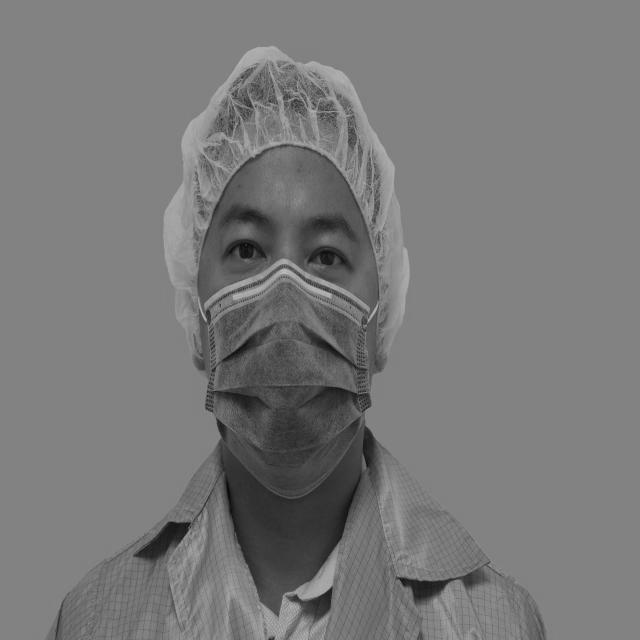fake: (205, 261, 387, 497)
real: (195, 138, 381, 505)
